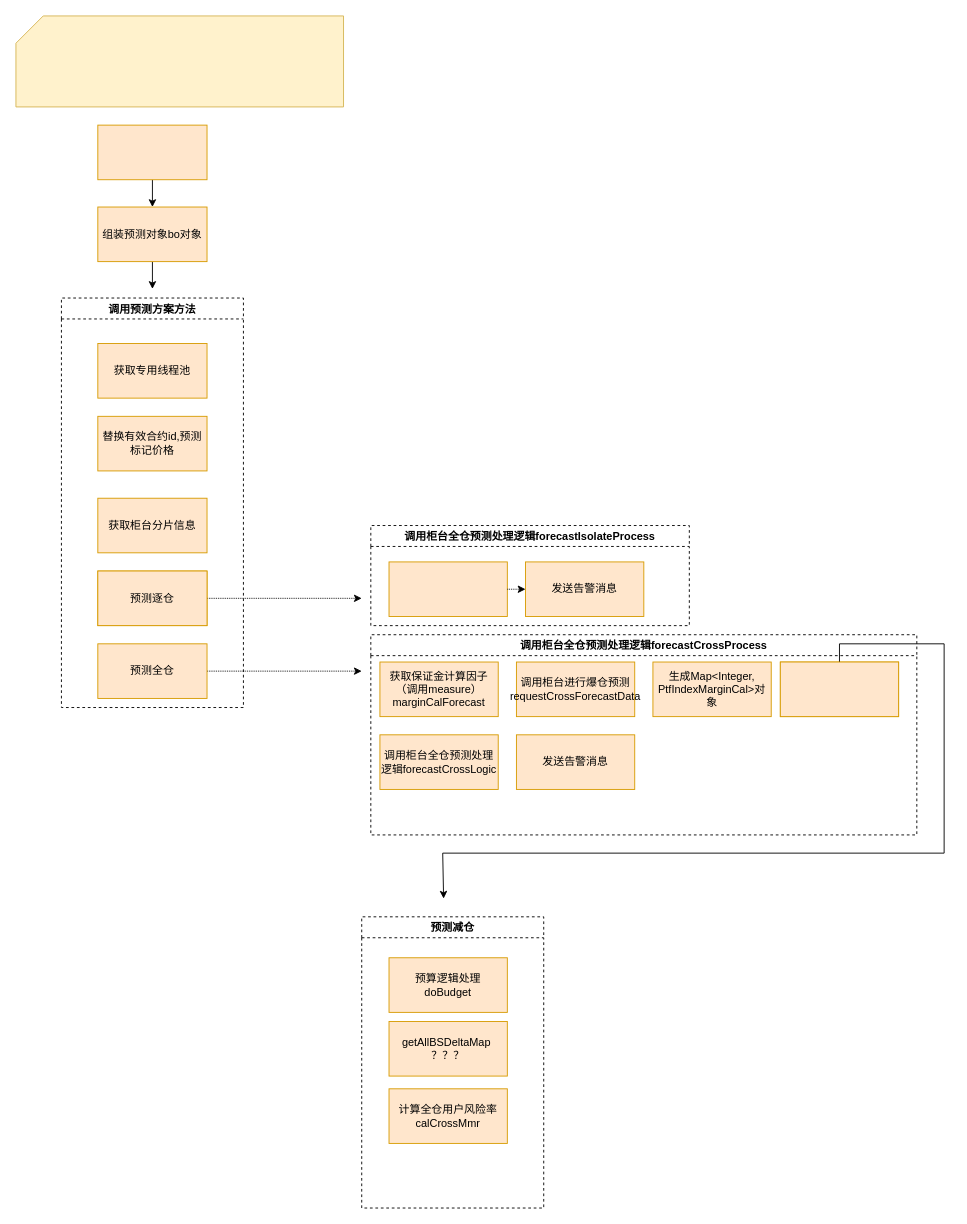
The diagram is 967 pixels wide and 1224 high, and some of its shapes have lost their labels. The centre of each missing label's shape, as x and y in pixels:
减仓判断: the point at 839,689
根据预测标记价格进行预测: the point at 152,152
爆仓预测代码梳理: the point at 179,61
调整标记价格，预测逐仓用户是否强平replicaIsolateLiqForecast: the point at 447,589
